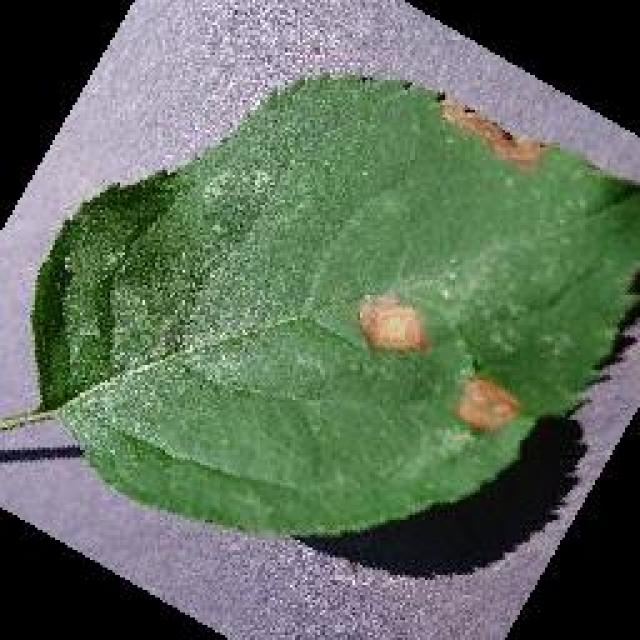Black_rot: (0, 68, 638, 540)
